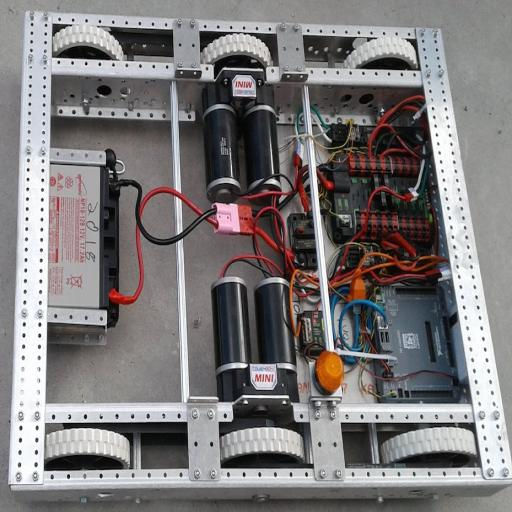robot: (17, 5, 509, 502)
